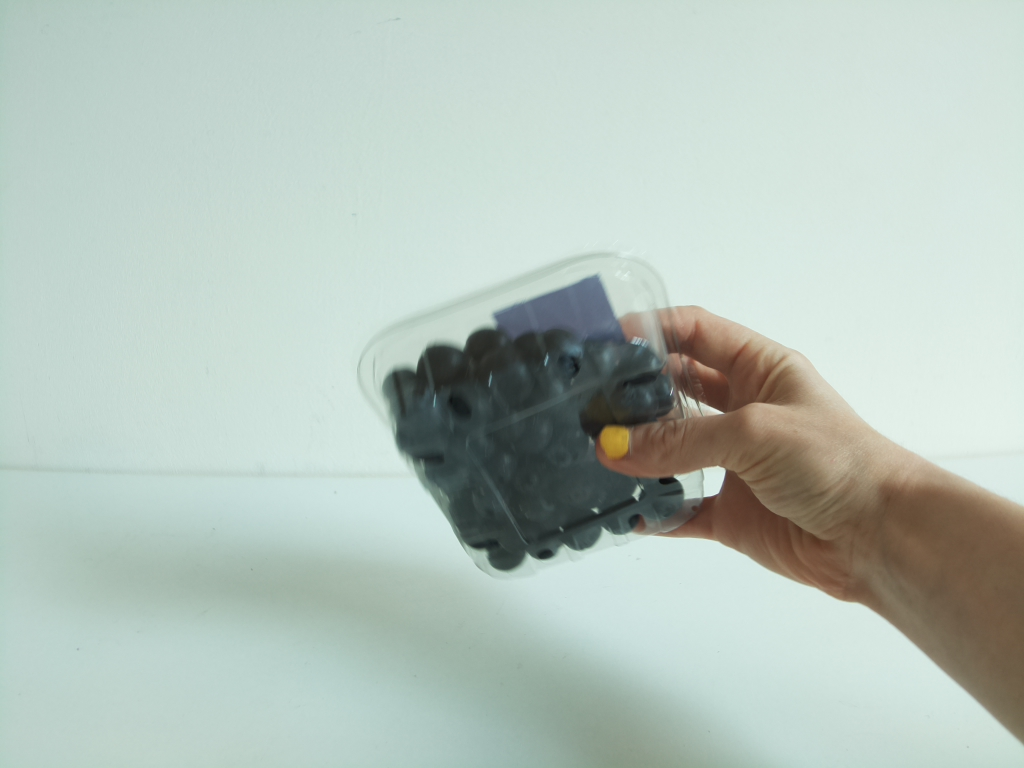soft-fruit: (356, 247, 710, 577)
